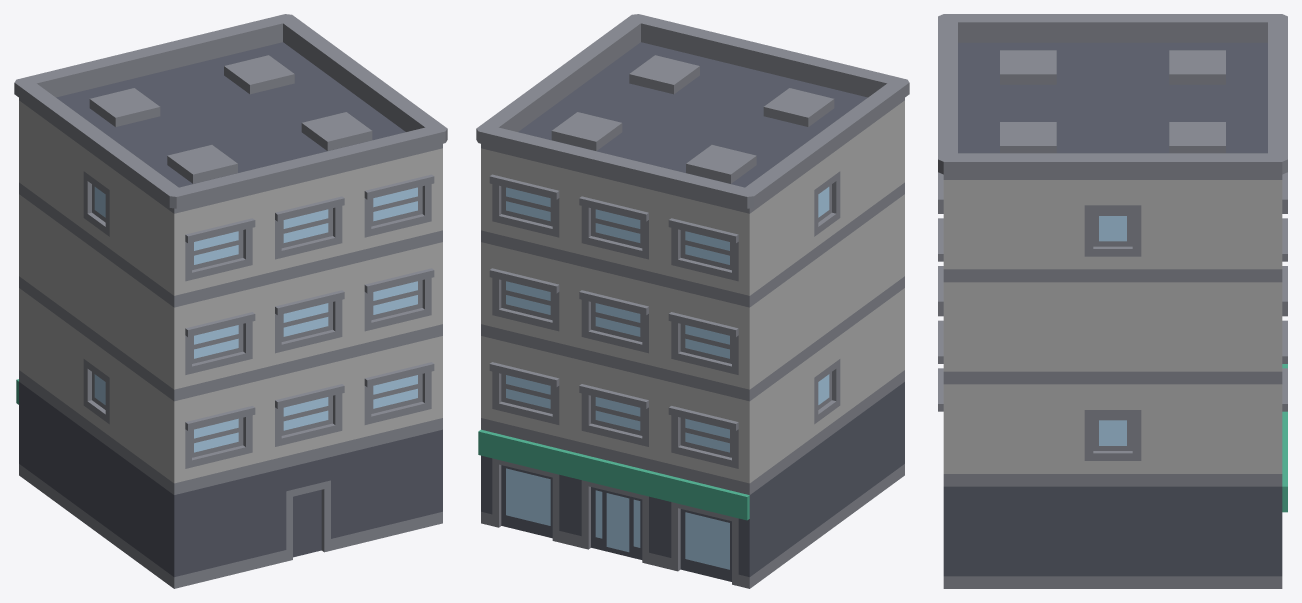
File: Large Building-1bt4yYKmuK.glb
3 views of the same model, side by side, from view 1: azimuth 30°, elevation 25°; view 2: azimuth 150°, elevation 25°; view 3: azimuth 270°, elevation 25° (orthographic). The views are drawn at different scales.
Parts seen in each view (by area): view 1: large_buildingD; view 2: large_buildingD; view 3: large_buildingD.
Boxes of the visible parts, <box> form: large_buildingD: <box>14,14,447,588</box>; large_buildingD: <box>476,14,909,588</box>; large_buildingD: <box>938,14,1287,588</box>.
Size of the model in its own units: 1.24 by 1.68 by 1.24.
